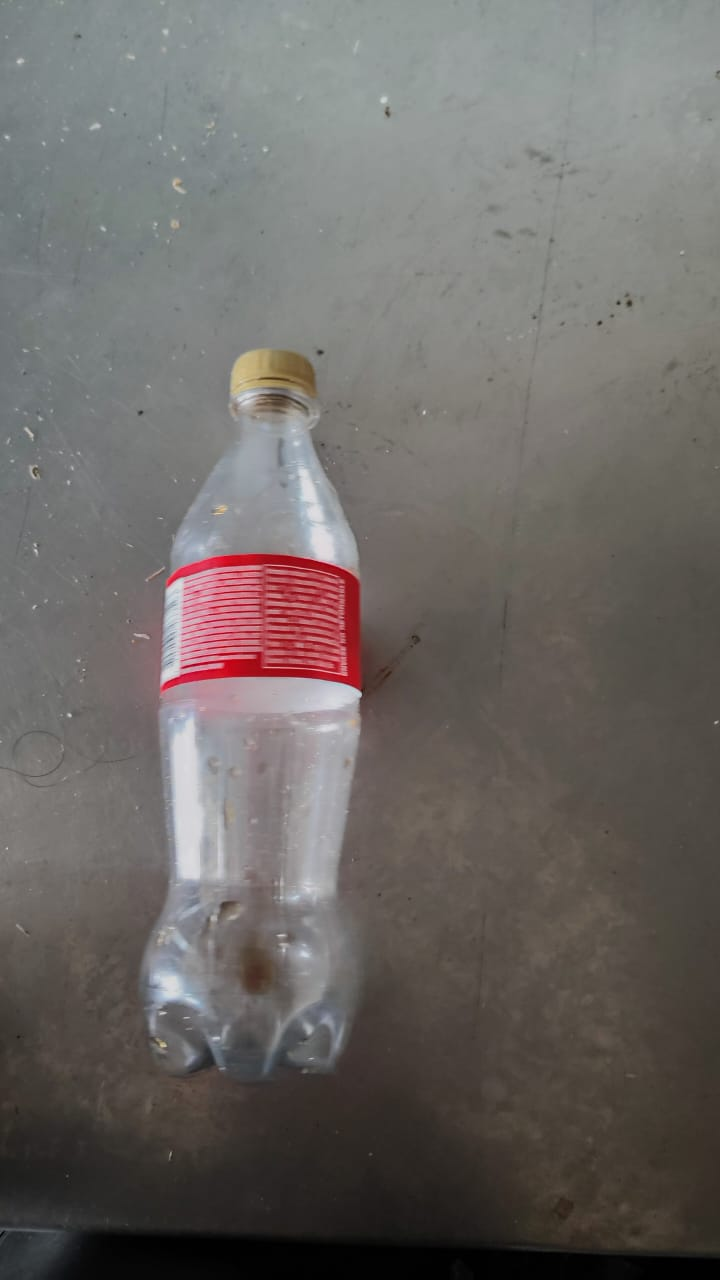Plastico: (137, 350, 359, 1080)
